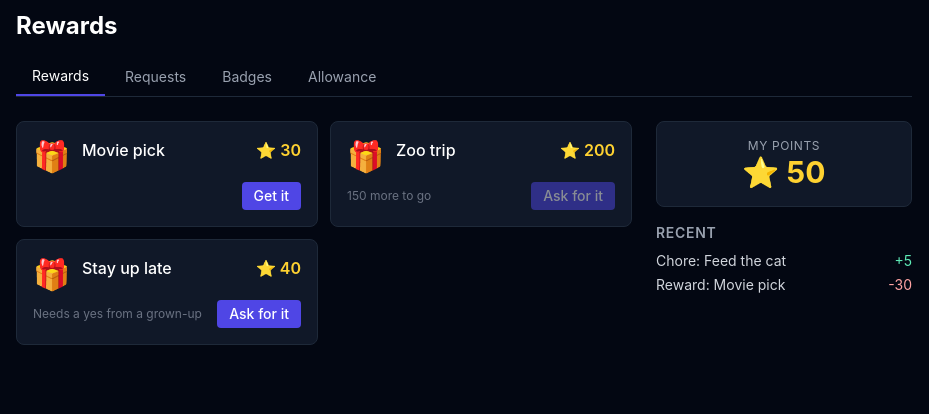
Test case: RewardsPage › Rewards › buys a reward and asks for one that needs a yes
Check: the text "⭐ 50" is shown, box [742,154,826,190]
Click the button with aria-label "Get: Movie pick": click(271, 196) [242,182,301,210]
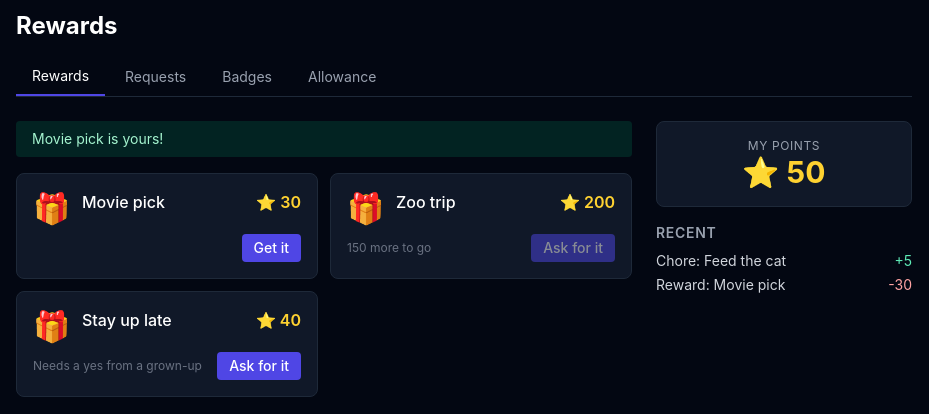
Check: the text "Movie pick is yours!" is shown, box [16,121,632,157]
Click the button with aria-label "Ask for: Stay up late": click(259, 366) [217,352,301,380]
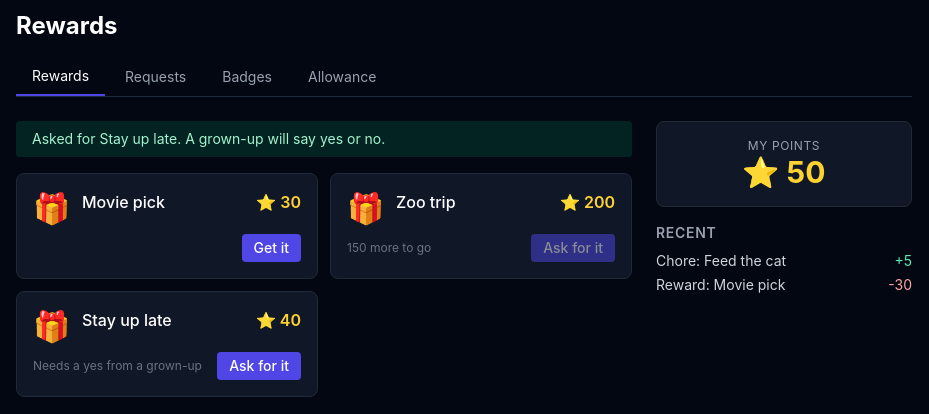
Check: the text "Asked for Stay up late. A grown-up will say yes or no." is shown, box [16,121,632,157]
